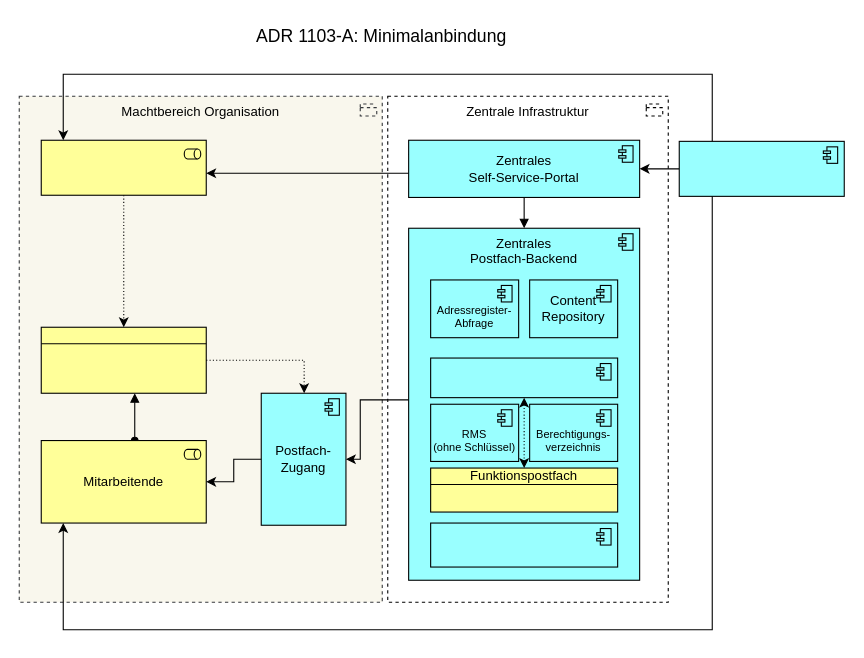
Image size: 864x658. Some labels were removed from this diagram. The shapes that lost their labels are listed below. From the top down, each one's centre as x and y in pixels, then its label:
the point at 123,167: Org-Admin
the point at 761,168: IdP (z. B. Org-Konto)
the point at 123,359: Identität / Zertifikat
the point at 524,377: Matrix-Homeserver
the point at 524,544: Quittungsdienst
